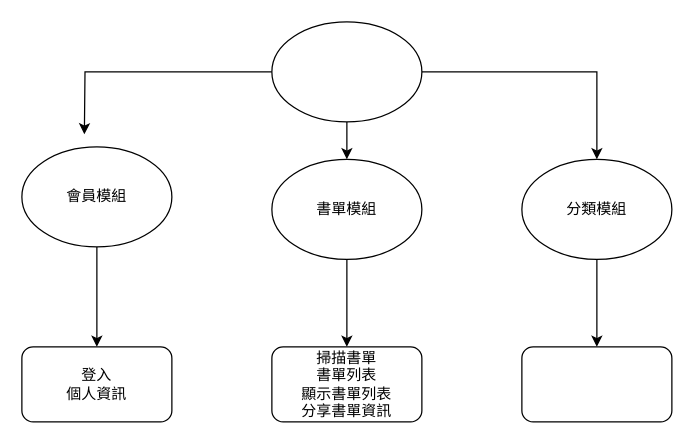
This 694x444 diagram has some shape labels left out. Each missing label, with the centre of its shape:
"標籤列表 編輯標籤 標籤下的書單列表" belongs at point (596, 384).
"首頁" belongs at point (346, 71).
